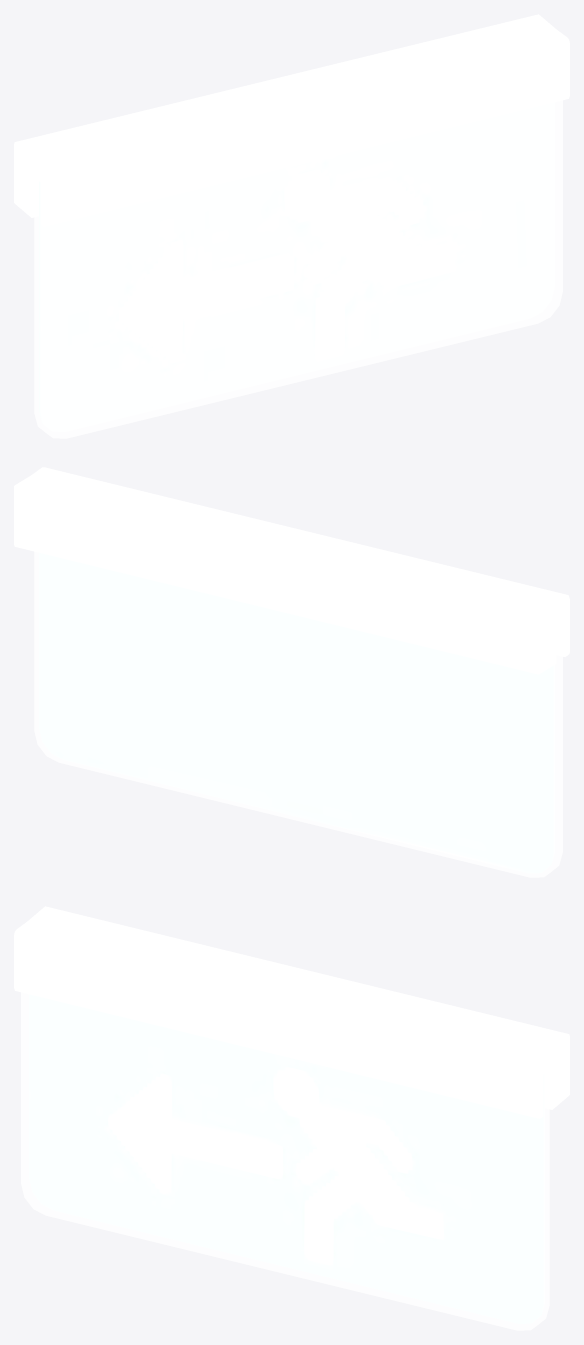
File: exit-sign.lod0.glb
3 renders of one model, top to bottom at view 1: azimuth 30°, elevation 25°; view 2: azimuth 150°, elevation 25°; view 3: azimuth 330°, elevation 25°, orthographic.
Visible parts, largest first — view 1: defaultMaterial; view 2: defaultMaterial; view 3: defaultMaterial.
Boxes of the visible parts, x1,y1,x2,y2 form: defaultMaterial: [14, 14, 569, 438]; defaultMaterial: [14, 467, 569, 877]; defaultMaterial: [14, 906, 569, 1330].
Size of the model in its own units: 0.38 by 0.1962 by 0.0383.
1 material, 1 textured.
